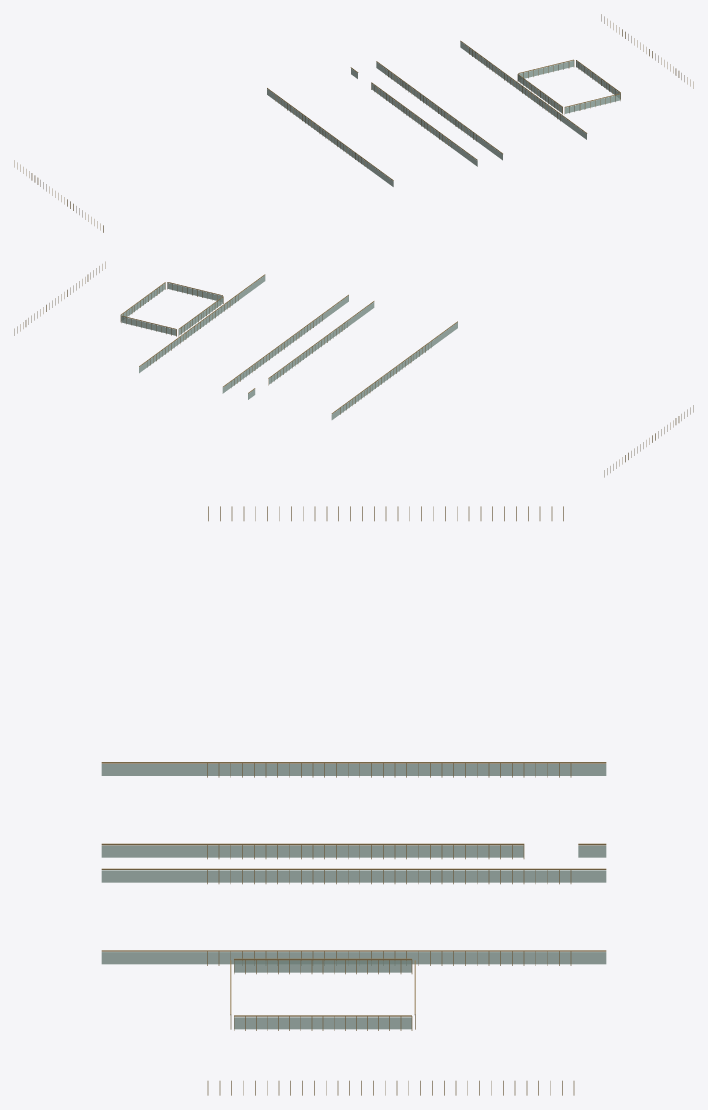
The model's file is TIDAL_SPECIALTY_102_frontage_r001.glb.
3 renders of one model, top to bottom at view 1: azimuth 30°, elevation 25°; view 2: azimuth 150°, elevation 25°; view 3: azimuth 270°, elevation 25°, orthographic. The views are drawn at different scales.
Parts seen in each view (by area): view 1: TG_Batch_157, TG_Batch_154; view 2: TG_Batch_157, TG_Batch_154; view 3: TG_Batch_157, TG_Batch_154.
Part boxes in pixels (<box>): TG_Batch_157: <box>267,41,620,186</box>; TG_Batch_154: <box>14,14,693,232</box>; TG_Batch_157: <box>121,275,457,419</box>; TG_Batch_154: <box>14,261,693,477</box>; TG_Batch_157: <box>101,764,606,1029</box>; TG_Batch_154: <box>101,506,606,1095</box>.
Size of the model in its own units: 91.7 by 1.14 by 34.03.
Materials: 2 (1 with a texture image).
